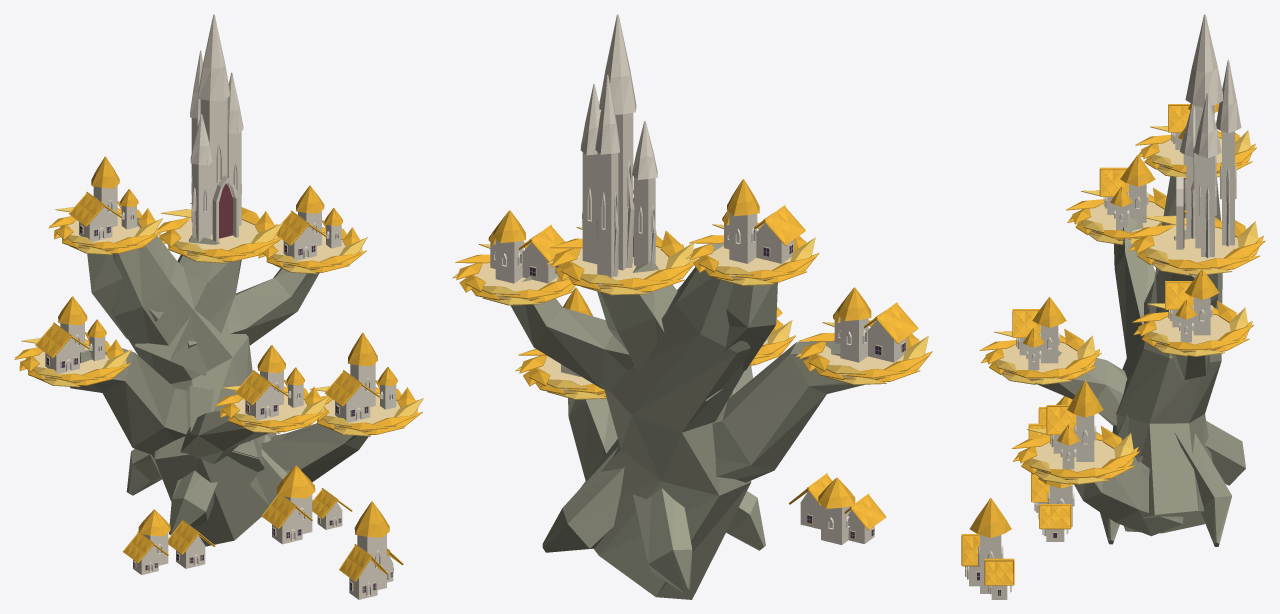
The model's file is building.glb.
3 views of the same model, side by side, from view 1: azimuth 30°, elevation 25°; view 2: azimuth 150°, elevation 25°; view 3: azimuth 270°, elevation 25° (orthographic). The views are drawn at different scales.
Parts seen in each view (by area): view 1: 22_R3C_Griffon_LeafNestsAndIvoryCathedral, 22_R3C_Griffon_AsymmetricFoldedTree; view 2: 22_R3C_Griffon_AsymmetricFoldedTree, 22_R3C_Griffon_LeafNestsAndIvoryCathedral; view 3: 22_R3C_Griffon_LeafNestsAndIvoryCathedral, 22_R3C_Griffon_AsymmetricFoldedTree.
Part boxes in pixels (x1,y1,x2,y2): 22_R3C_Griffon_LeafNestsAndIvoryCathedral: [14, 14, 423, 599]; 22_R3C_Griffon_AsymmetricFoldedTree: [70, 217, 369, 546]; 22_R3C_Griffon_AsymmetricFoldedTree: [510, 243, 864, 599]; 22_R3C_Griffon_LeafNestsAndIvoryCathedral: [452, 14, 932, 544]; 22_R3C_Griffon_LeafNestsAndIvoryCathedral: [961, 14, 1265, 599]; 22_R3C_Griffon_AsymmetricFoldedTree: [1036, 176, 1245, 546].
Bounding box in the file's own units: 1.54 × 2.05 × 1.04.
